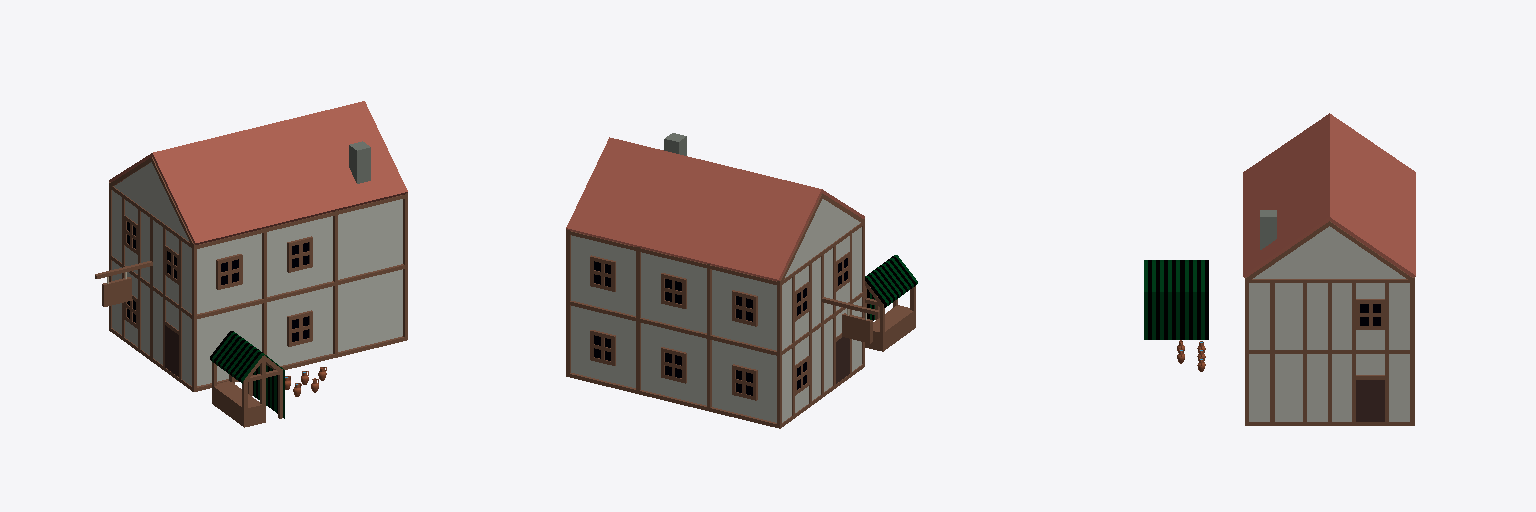
Rendered from timberframedpotter_black_green.obj.
The picture shows the model from 3 angles: view 1: azimuth 30°, elevation 25°; view 2: azimuth 150°, elevation 25°; view 3: azimuth 270°, elevation 25°; orthographic projection.
Visible parts, largest first — view 1: Cube.005, Cube.007_Cube.011, Cube.011_Cube.015, Cube.018_Cube.016, Cube.056_Cube.081, Cube.001_Cube.058, Cube.013_Cube.080, Cube.006_Cube.010, Cube.055_Cube.059, Cube.026_Cube.019, Cube.073_Cube.078, Cube.012_Cube.017 (+5 smaller); view 2: Cube.005, Cube.007_Cube.011, Cube.022_Cube.025, Cube.023_Cube.026, Cube.021_Cube.024, Cube.015_Cube.020, Cube.019_Cube.022, Cube.017_Cube.021, Cube.014_Cube.018, Cube.008, Cube.020_Cube.023, Cube.073_Cube.078 (+6 smaller); view 3: Cube.005, Cube.007_Cube.011, Cube.147_Cube.153, Cube.003, Cube.033, Cube.027, Cube.047_Cube.049, Cube.031, Cube.016_Cube.013, Cube.006_Cube.010, Cube.032, Cube.012_Cube.017 (+4 smaller).
Boxes of the visible parts, box(x1,y1,x2,y2) form: Cube.005: box(112, 162, 402, 385); Cube.007_Cube.011: box(109, 101, 407, 244); Cube.011_Cube.015: box(195, 264, 404, 319); Cube.018_Cube.016: box(195, 195, 406, 249); Cube.056_Cube.081: box(216, 254, 242, 289); Cube.001_Cube.058: box(287, 310, 312, 346); Cube.013_Cube.080: box(287, 236, 312, 272); Cube.006_Cube.010: box(349, 141, 370, 183); Cube.055_Cube.059: box(195, 336, 406, 391); Cube.026_Cube.019: box(192, 243, 196, 391); Cube.073_Cube.078: box(102, 277, 131, 306); Cube.012_Cube.017: box(403, 193, 407, 339); Cube.005: box(571, 199, 861, 422); Cube.007_Cube.011: box(566, 137, 864, 280); Cube.022_Cube.025: box(567, 301, 778, 355); Cube.023_Cube.026: box(567, 373, 776, 427); Cube.021_Cube.024: box(570, 231, 776, 284); Cube.015_Cube.020: box(732, 290, 757, 326); Cube.019_Cube.022: box(661, 347, 686, 383); Cube.017_Cube.021: box(590, 330, 615, 365); Cube.014_Cube.018: box(661, 273, 686, 308); Cube.008: box(590, 255, 615, 291); Cube.020_Cube.023: box(732, 364, 757, 400); Cube.073_Cube.078: box(842, 313, 872, 343); Cube.005: box(1249, 226, 1409, 421); Cube.007_Cube.011: box(1243, 113, 1415, 277); Cube.147_Cube.153: box(1144, 292, 1208, 339); Cube.003: box(1356, 380, 1384, 421); Cube.033: box(1356, 299, 1384, 329); Cube.027: box(1410, 277, 1414, 425); Cube.047_Cube.049: box(1270, 279, 1274, 423); Cube.031: box(1248, 422, 1410, 425); Cube.016_Cube.013: box(1248, 350, 1410, 353); Cube.006_Cube.010: box(1260, 210, 1276, 249); Cube.032: box(1248, 279, 1410, 282); Cube.012_Cube.017: box(1245, 277, 1248, 425).
Bounding box in the file's own units: 15.3 × 11.25 × 13.34.